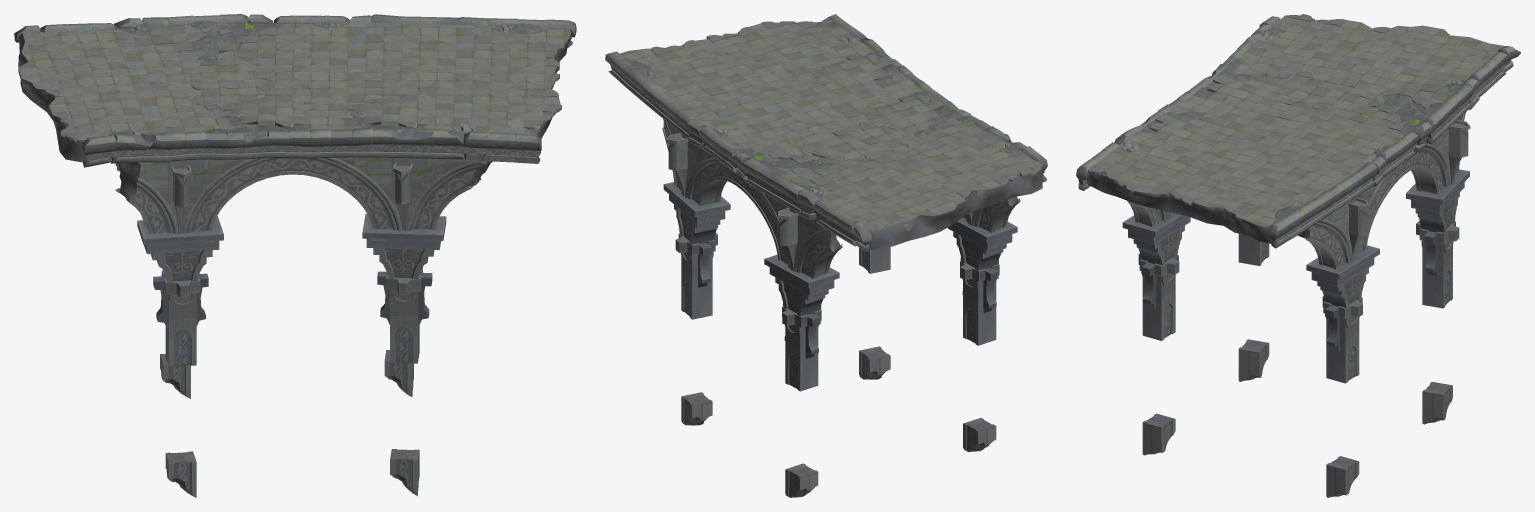
File: SkillObj_Monster_Dvalin_Platform_06.fbx
3 views of the same model, side by side, from view 1: azimuth 30°, elevation 25°; view 2: azimuth 150°, elevation 25°; view 3: azimuth 270°, elevation 25° (orthographic). The views are drawn at different scales.
Visible parts, largest first — view 1: Area_MdBuild_SdBridge13_Lod0.001, Area_MdBuild_SdArch06_04_Lod0, Area_MdBuild_SdArch06_02_Lod0, Area_MdProps_SdPillar02_02_Lod0, Area_MdProps_SdPillar02_02_Lod0.001, Area_MdBuild_SdArch06_01_Lod0, Area_MdBuild_SdRuins07_07_Lod0, Area_MdProps_SdPillar02_03_Lod0, Area_MdProps_SdPillar02_03_Lod0.001, Area_MdBuild_SdWall01_08_Lod0, Area_MdBuild_SdWall01_08_Lod0.001, Area_MdProps_SdPillar02_04_Lod0 (+7 smaller); view 2: Area_MdBuild_SdBridge13_Lod0.001, Area_MdBuild_SdArch06_04_Lod0.001, Area_MdProps_SdPillar02_02_Lod0.002, Area_MdProps_SdPillar02_02_Lod0, Area_MdBuild_SdRuins07_07_Lod0, Area_MdProps_SdPillar02_02_Lod0.003, Area_MdBuild_SdWall01_08_Lod0, Area_MdProps_SdPillar02_03_Lod0.002, Area_MdBuild_SdWall01_08_Lod0.001, Area_MdProps_SdPillar02_03_Lod0, Area_MdProps_SdPillar02_03_Lod0.003, Area_MdBuild_SdArch06_01_Lod0.001 (+10 smaller); view 3: Area_MdBuild_SdBridge13_Lod0.001, Area_MdBuild_SdArch06_04_Lod0.001, Area_MdProps_SdPillar02_02_Lod0.001, Area_MdProps_SdPillar02_02_Lod0.003, Area_MdProps_SdPillar02_02_Lod0.002, Area_MdBuild_SdRuins07_07_Lod0, Area_MdBuild_SdWall01_08_Lod0, Area_MdProps_SdPillar02_03_Lod0.003, Area_MdBuild_SdWall01_08_Lod0.001, Area_MdProps_SdPillar02_03_Lod0.001, Area_MdBuild_SdArch06_02_Lod0.001, Area_MdProps_SdPillar02_03_Lod0.002 (+10 smaller).
Part boxes in pixels (left/top/right/bottom): Area_MdBuild_SdBridge13_Lod0.001: left=14, top=14, right=576, bottom=167; Area_MdBuild_SdArch06_04_Lod0: left=180, top=157, right=404, bottom=243; Area_MdBuild_SdArch06_02_Lod0: left=404, top=152, right=492, bottom=230; Area_MdProps_SdPillar02_02_Lod0: left=153, top=270, right=208, bottom=366; Area_MdProps_SdPillar02_02_Lod0.001: left=377, top=267, right=432, bottom=363; Area_MdBuild_SdArch06_01_Lod0: left=115, top=160, right=180, bottom=234; Area_MdBuild_SdRuins07_07_Lod0: left=188, top=51, right=271, bottom=117; Area_MdProps_SdPillar02_03_Lod0: left=137, top=216, right=223, bottom=282; Area_MdProps_SdPillar02_03_Lod0.001: left=362, top=214, right=446, bottom=279; Area_MdBuild_SdWall01_08_Lod0: left=223, top=80, right=315, bottom=128; Area_MdBuild_SdWall01_08_Lod0.001: left=347, top=81, right=436, bottom=128; Area_MdProps_SdPillar02_04_Lod0: left=165, top=451, right=196, bottom=497; Area_MdBuild_SdBridge13_Lod0.001: left=605, top=14, right=1047, bottom=251; Area_MdBuild_SdArch06_04_Lod0.001: left=684, top=136, right=793, bottom=269; Area_MdProps_SdPillar02_02_Lod0.002: left=782, top=304, right=821, bottom=391; Area_MdProps_SdPillar02_02_Lod0: left=960, top=258, right=999, bottom=345; Area_MdBuild_SdRuins07_07_Lod0: left=812, top=123, right=931, bottom=161; Area_MdProps_SdPillar02_02_Lod0.003: left=675, top=233, right=717, bottom=319; Area_MdBuild_SdWall01_08_Lod0: left=829, top=95, right=944, bottom=133; Area_MdProps_SdPillar02_03_Lod0.002: left=764, top=254, right=839, bottom=316; Area_MdBuild_SdWall01_08_Lod0.001: left=775, top=54, right=892, bottom=91; Area_MdProps_SdPillar02_03_Lod0: left=947, top=217, right=1017, bottom=270; Area_MdProps_SdPillar02_03_Lod0.003: left=663, top=182, right=730, bottom=244; Area_MdBuild_SdArch06_01_Lod0.001: left=790, top=210, right=842, bottom=279; Area_MdBuild_SdBridge13_Lod0.001: left=1076, top=15, right=1520, bottom=248; Area_MdBuild_SdArch06_04_Lod0.001: left=1352, top=129, right=1450, bottom=259; Area_MdProps_SdPillar02_02_Lod0.001: left=1138, top=253, right=1179, bottom=340; Area_MdProps_SdPillar02_02_Lod0.003: left=1322, top=296, right=1362, bottom=383; Area_MdProps_SdPillar02_02_Lod0.002: left=1416, top=220, right=1459, bottom=308; Area_MdBuild_SdRuins07_07_Lod0: left=1266, top=72, right=1378, bottom=111; Area_MdBuild_SdWall01_08_Lod0: left=1207, top=74, right=1293, bottom=119; Area_MdProps_SdPillar02_03_Lod0.003: left=1306, top=245, right=1379, bottom=307; Area_MdBuild_SdWall01_08_Lod0.001: left=1149, top=113, right=1235, bottom=159; Area_MdProps_SdPillar02_03_Lod0.001: left=1122, top=213, right=1190, bottom=265; Area_MdBuild_SdArch06_02_Lod0.001: left=1298, top=197, right=1357, bottom=269; Area_MdProps_SdPillar02_03_Lod0.002: left=1406, top=169, right=1469, bottom=232.
Size of the model in its own units: 44.14 by 31.25 by 37.89.
Materials: 14 (14 with a texture image).
